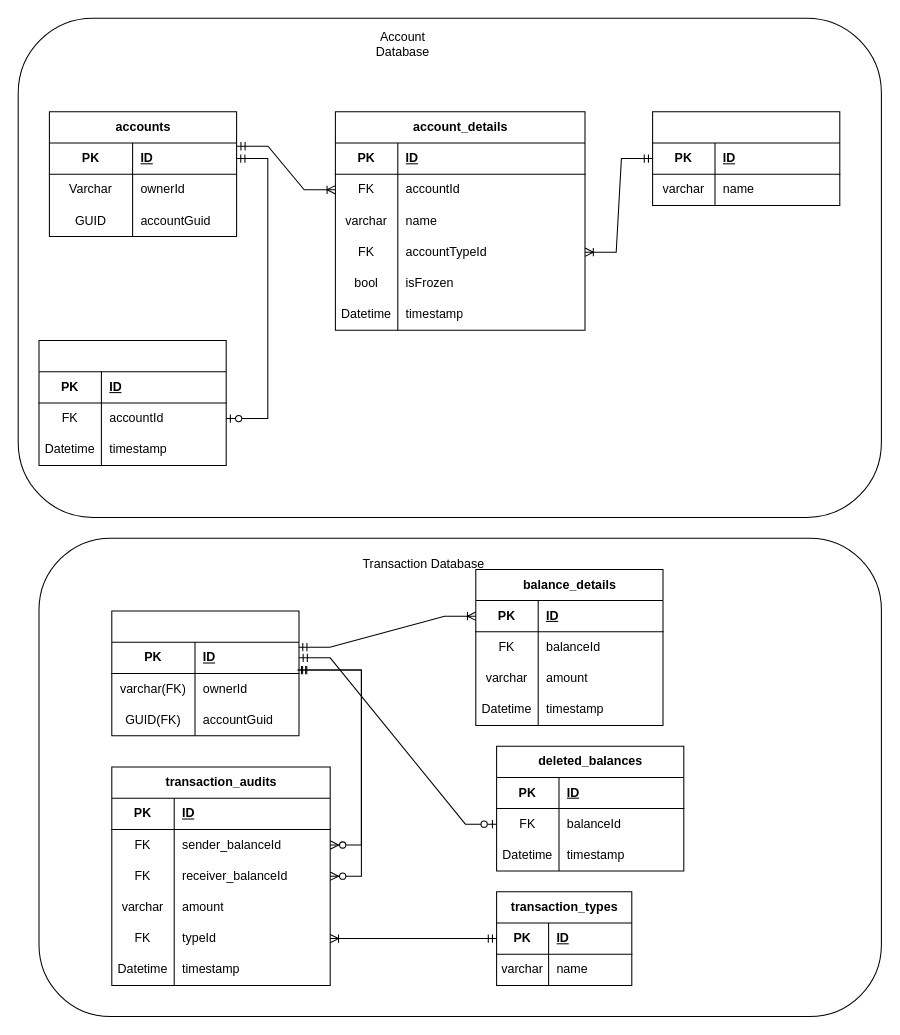
Image size: 900x1035. Some labels were removed from this diagram. Each missing label, with the box of its shape:
account_types: (652, 111, 840, 205)
balances: (111, 610, 299, 736)
deleted_accounts: (38, 340, 226, 465)
